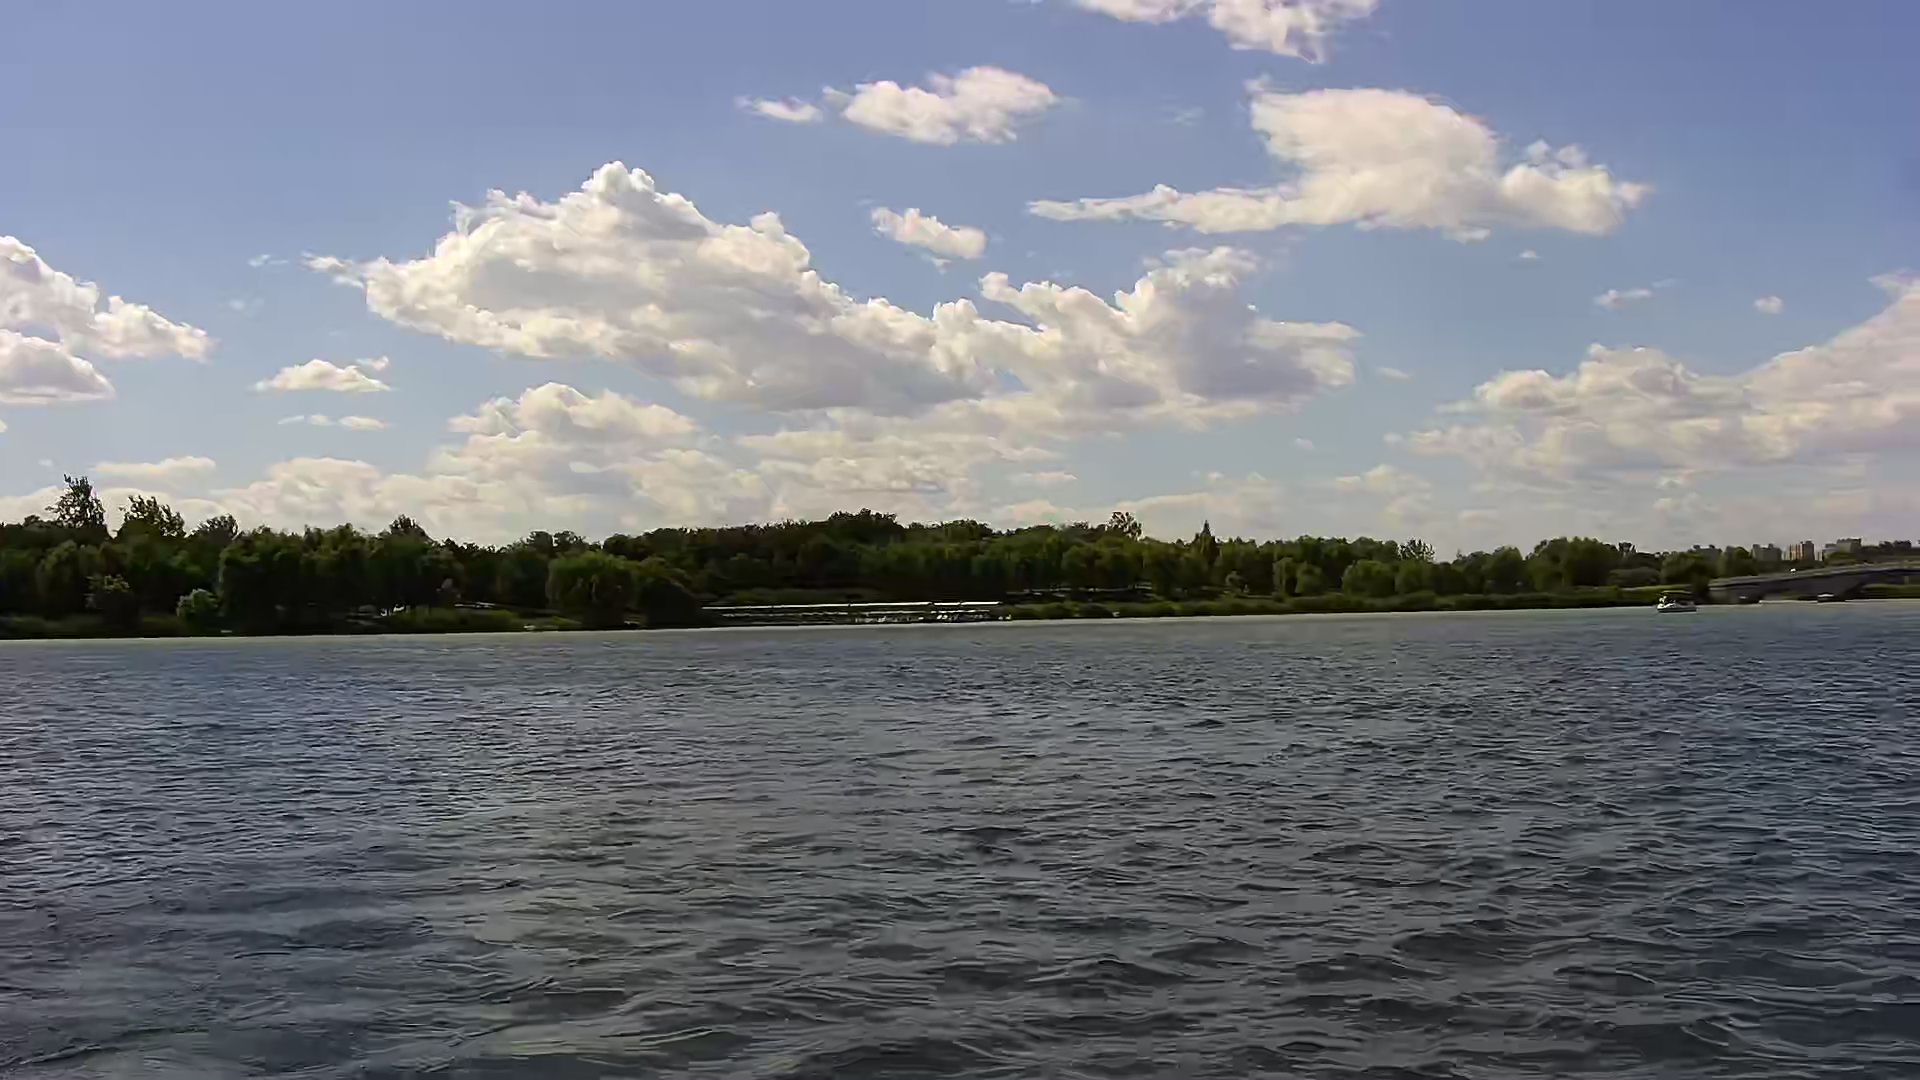boat: (1654, 596, 1696, 616)
bridge: (702, 597, 1004, 622), (1712, 568, 1920, 604)
